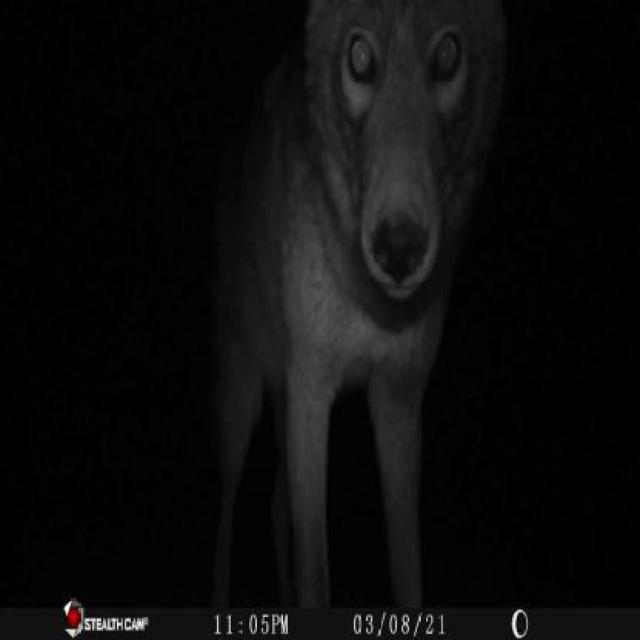Coyote: (205, 9, 498, 598)
